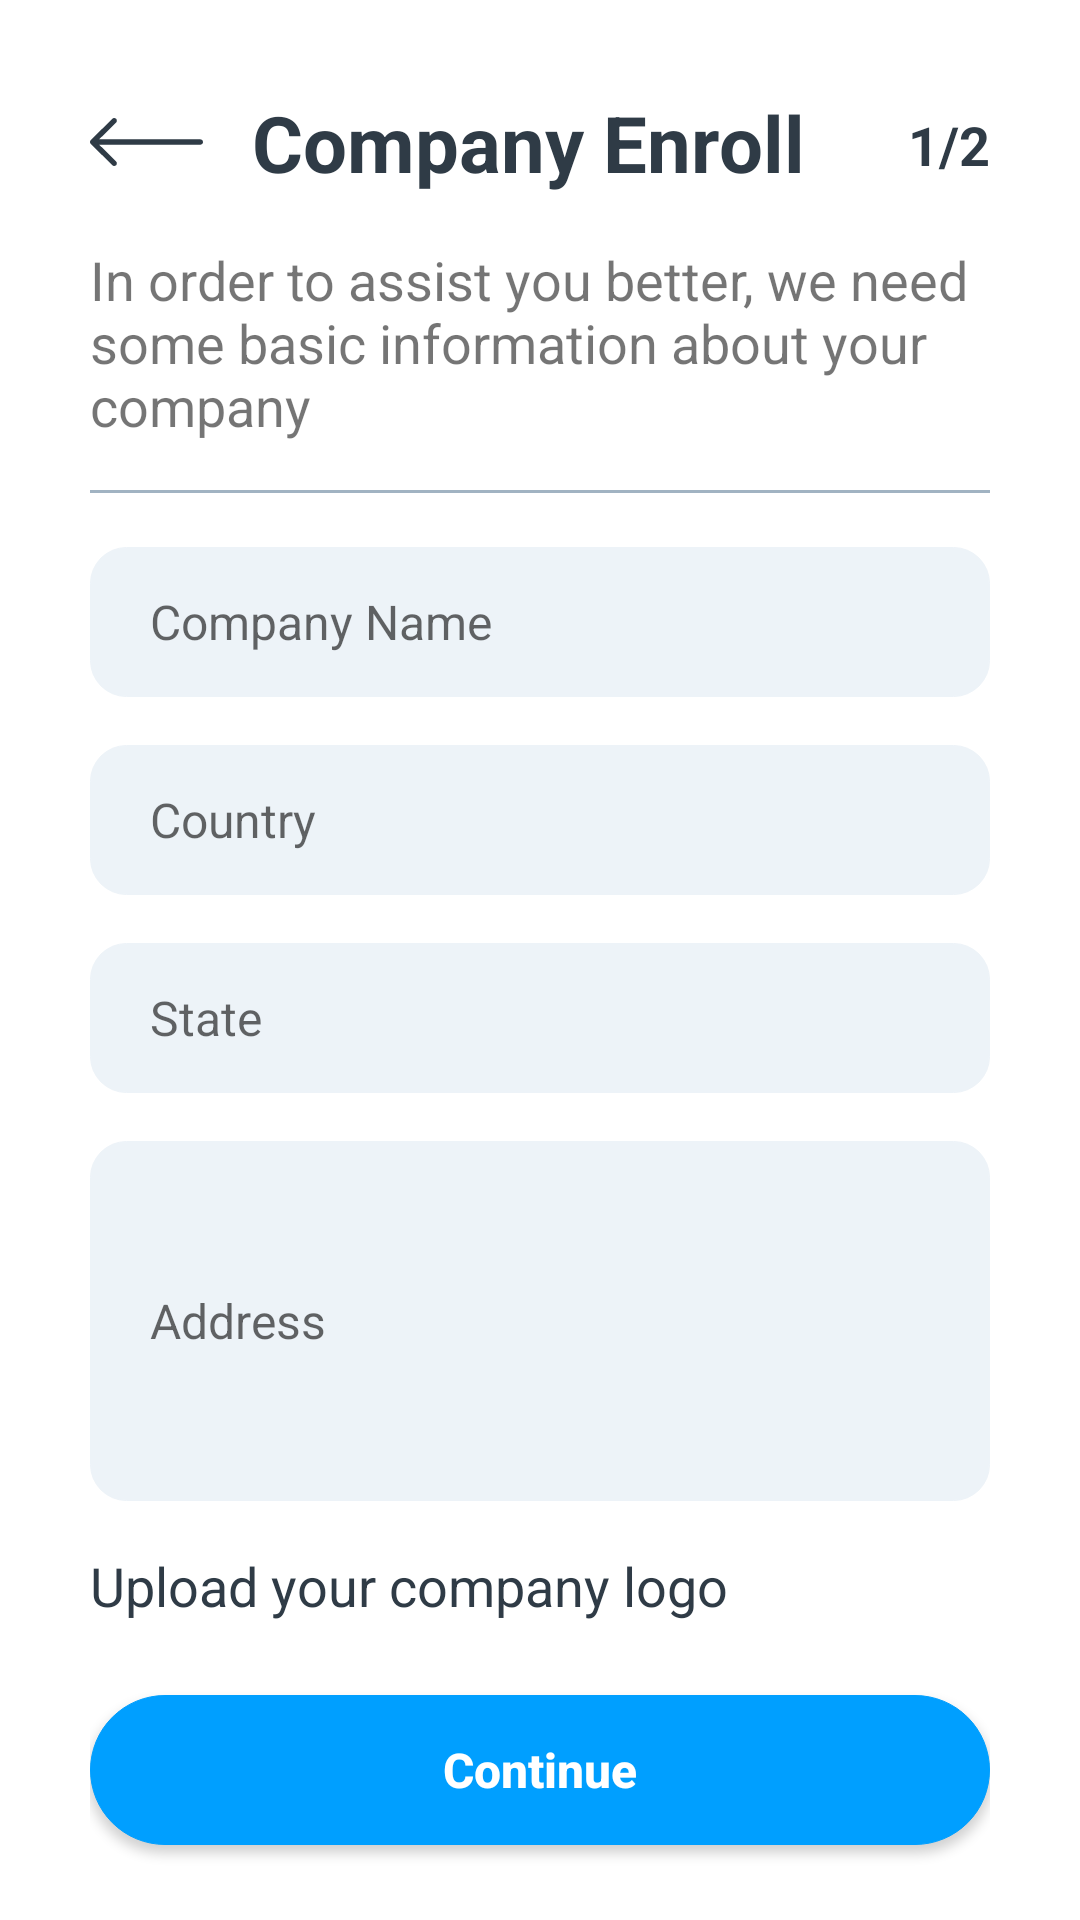

Screen size 1080 x 1920. Icon name, then its box in pixels as (x1, y1, x2, y2):
backward: (90, 118, 203, 166)
